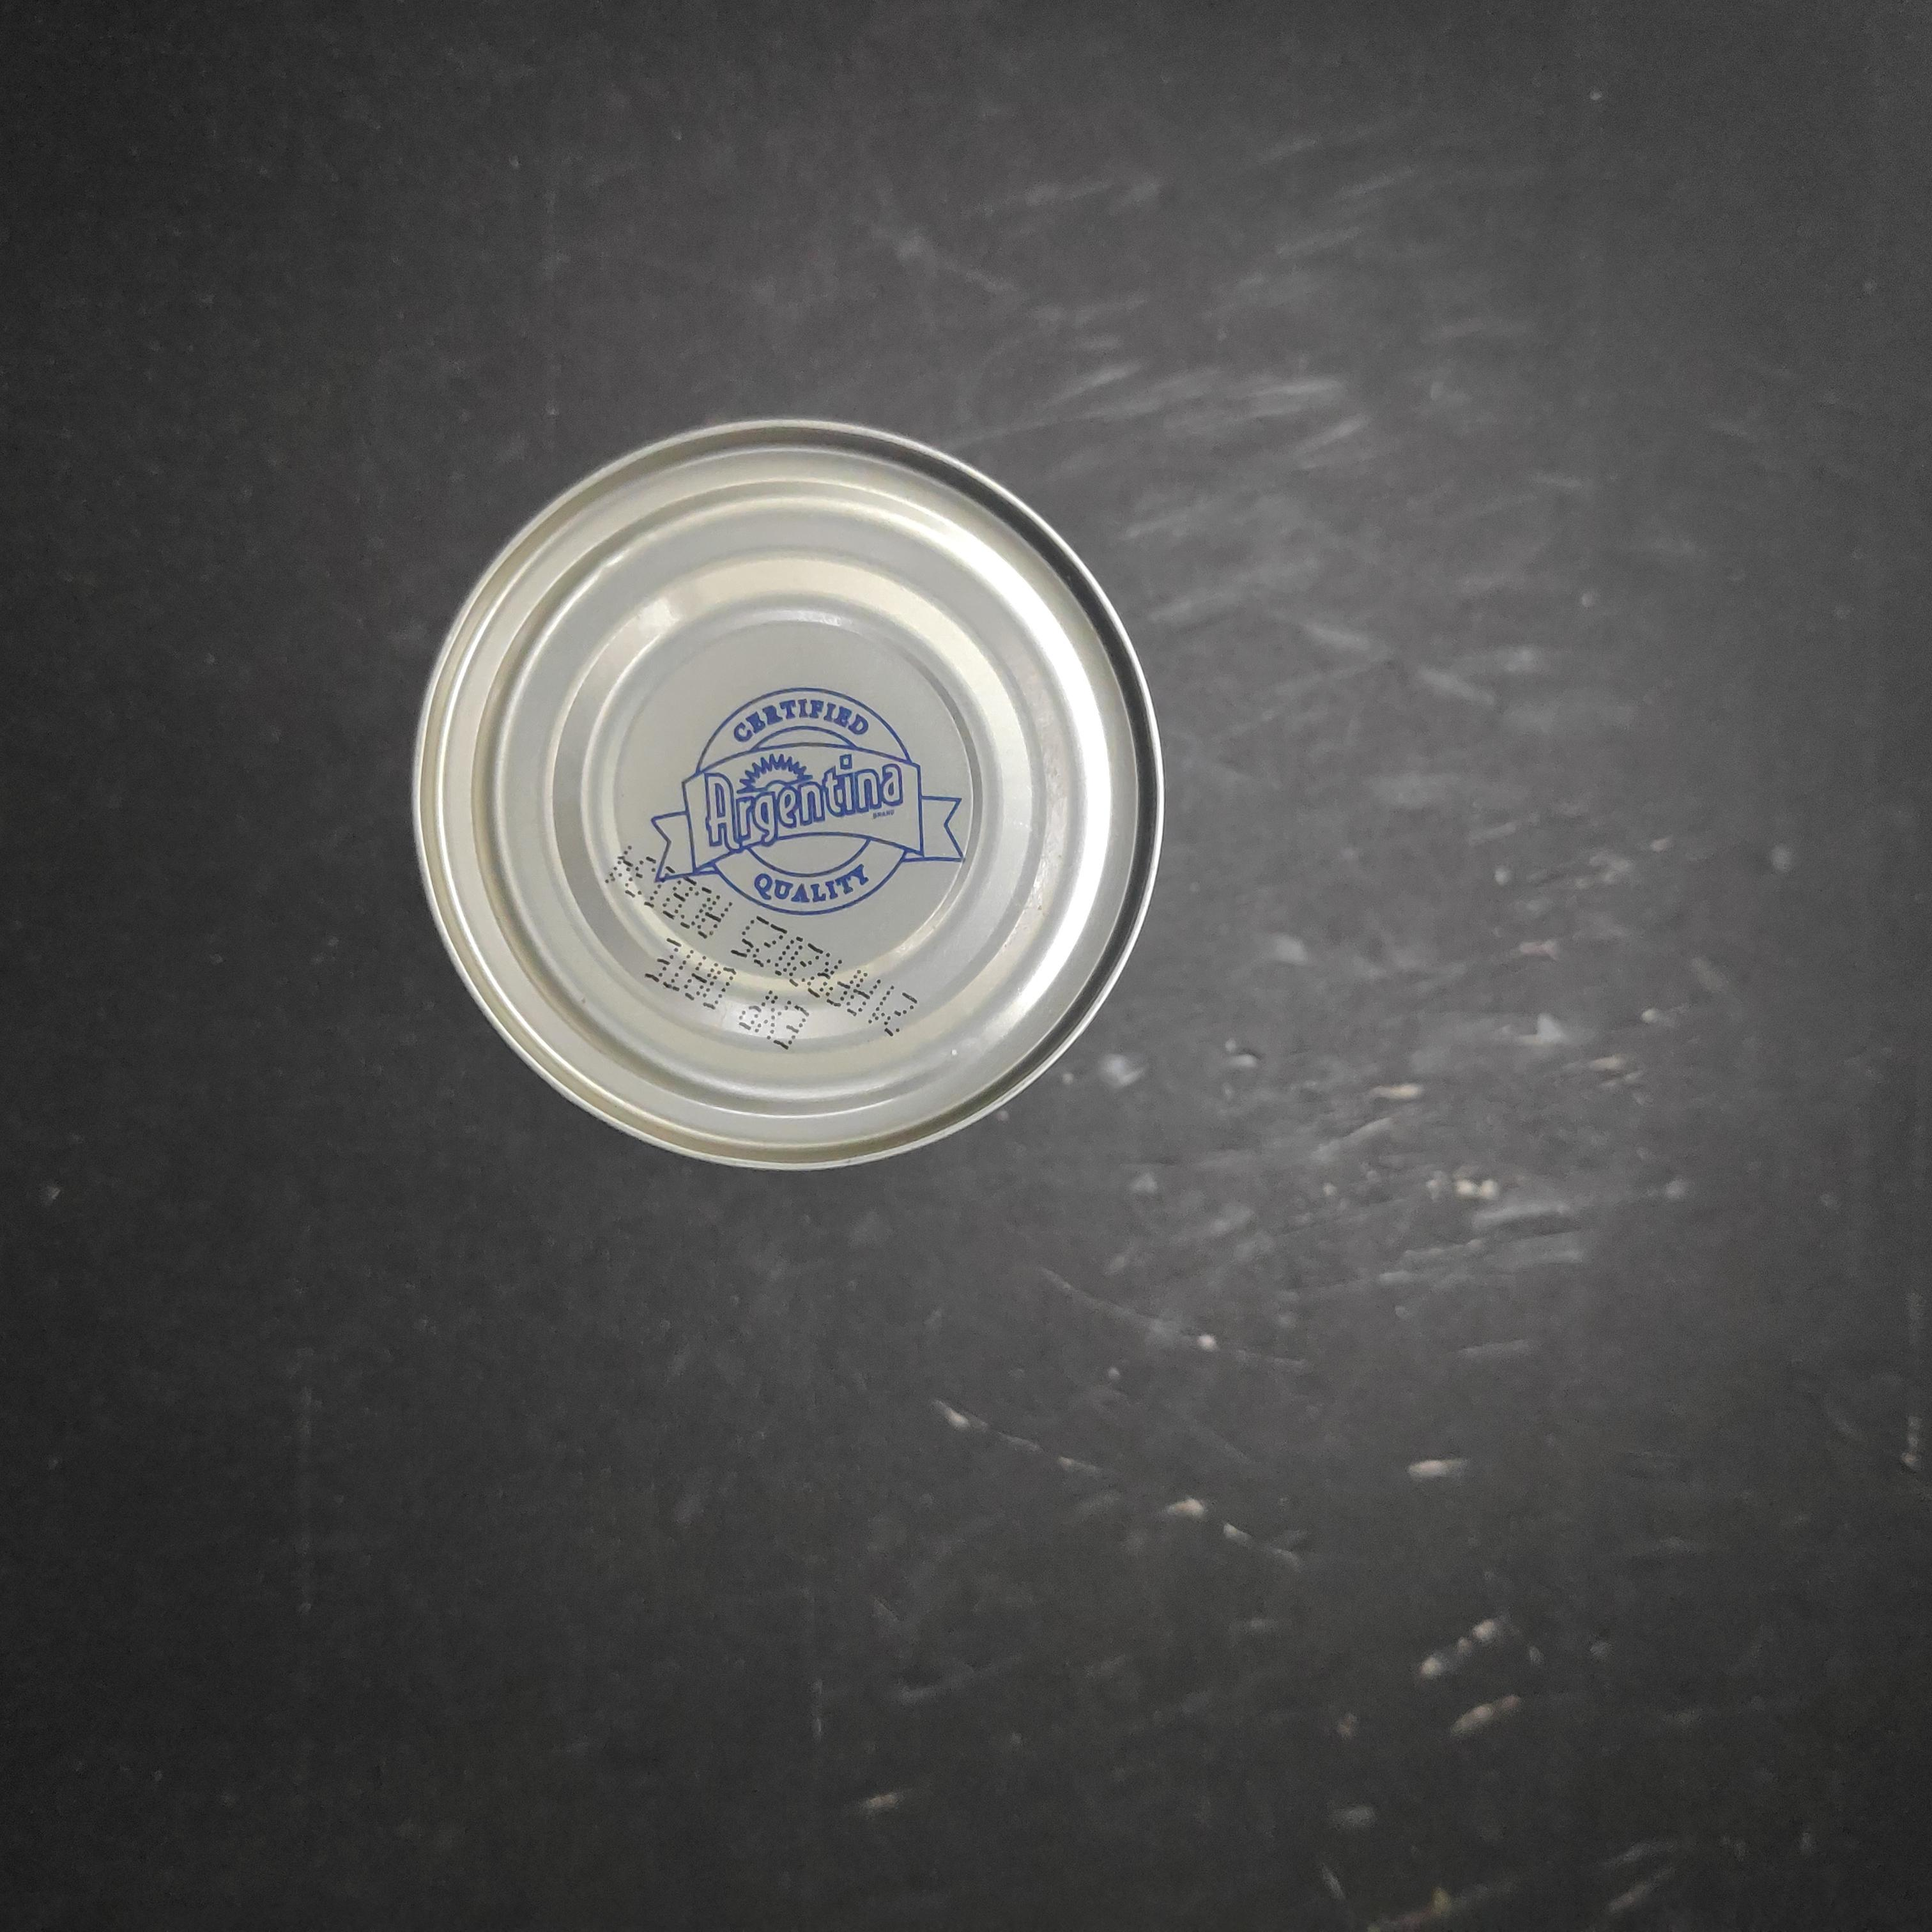No defect: (740, 391, 1534, 1178)
